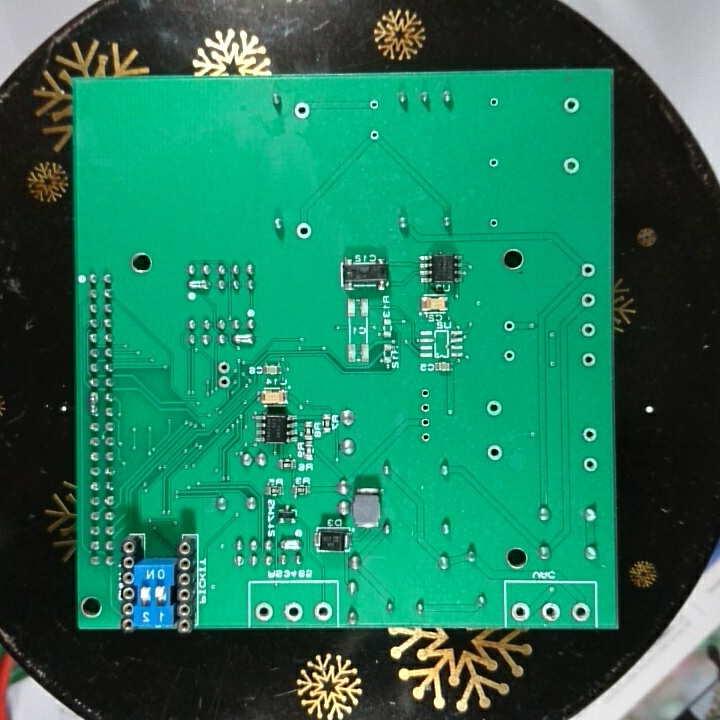F: (282, 600, 305, 625), (509, 600, 533, 623), (539, 600, 562, 624), (570, 600, 592, 625), (577, 289, 600, 312), (292, 220, 315, 242), (311, 601, 333, 624), (292, 100, 313, 123), (253, 602, 275, 623), (484, 398, 505, 419), (579, 321, 600, 342), (562, 155, 582, 177), (562, 95, 582, 116), (485, 443, 505, 463), (581, 455, 600, 474), (580, 426, 599, 445), (579, 351, 598, 370), (579, 261, 598, 280), (501, 347, 519, 366), (216, 374, 233, 391), (487, 154, 503, 172), (368, 126, 383, 145), (502, 318, 517, 335), (419, 430, 436, 445), (216, 358, 231, 375), (418, 415, 434, 430), (366, 97, 382, 112), (487, 215, 501, 231), (417, 401, 434, 414), (419, 386, 434, 400), (487, 95, 500, 110)
P: (277, 537, 307, 554), (230, 332, 259, 347), (86, 389, 100, 419), (183, 278, 212, 292)
